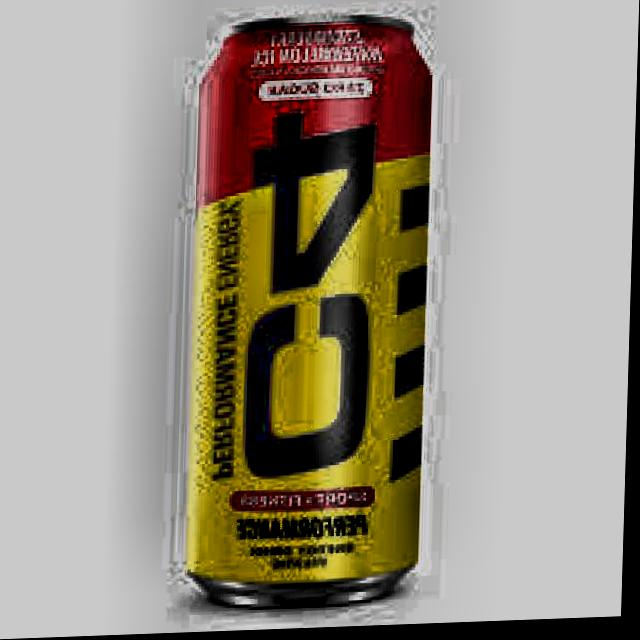can: (176, 4, 441, 616)
